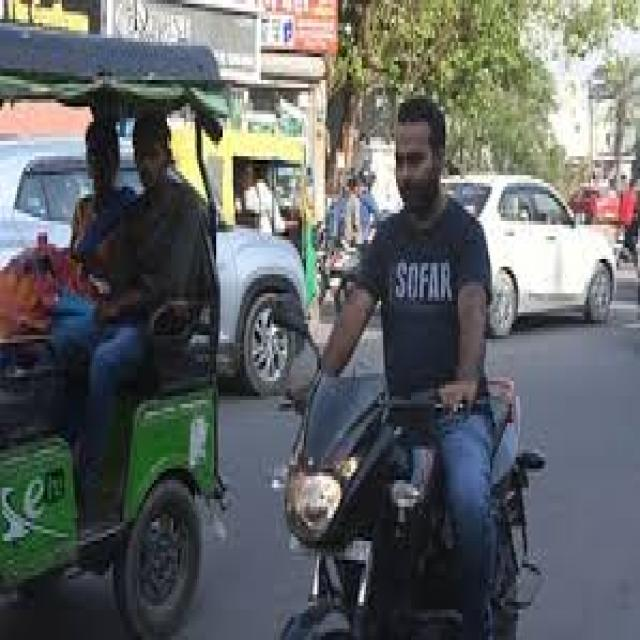without helmet: (380, 79, 454, 227)
